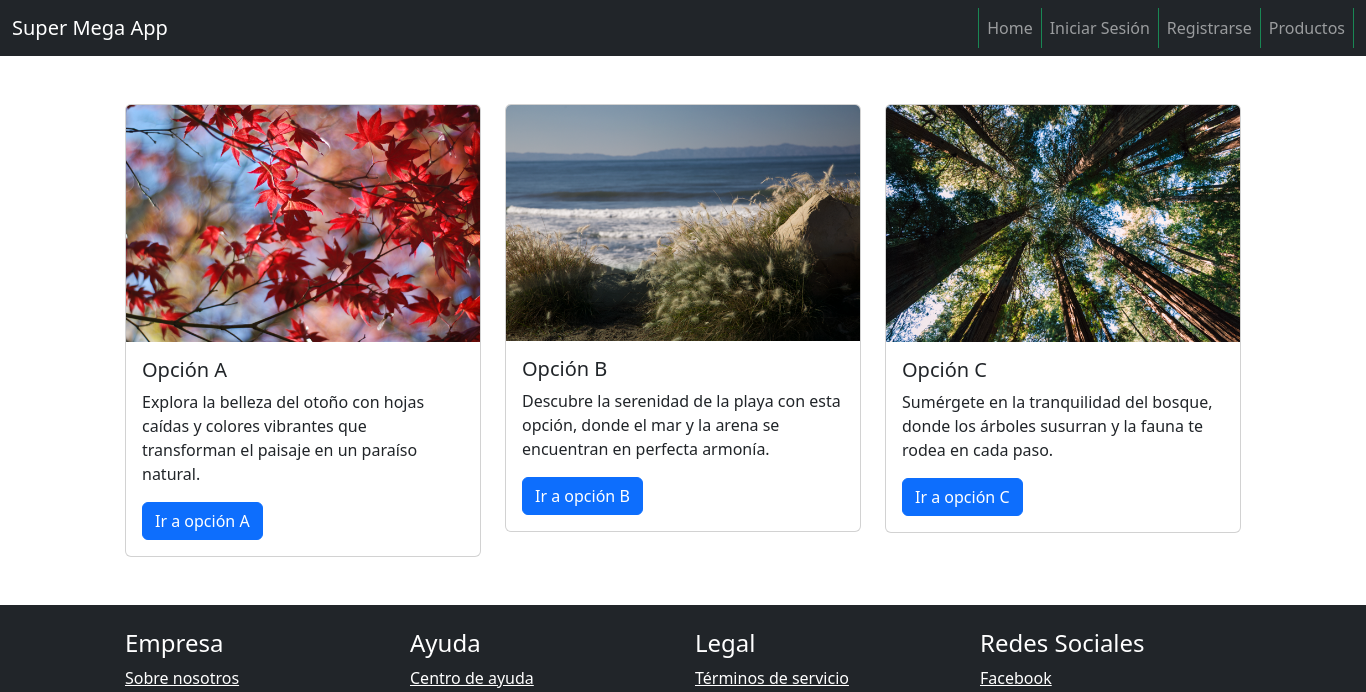
Test: formulario de registro › debe mostrar error si las contraseñas no coinciden
The image size is (1366, 692).
Click the link to "/register" at (1210, 28), box [1159, 8, 1261, 48]
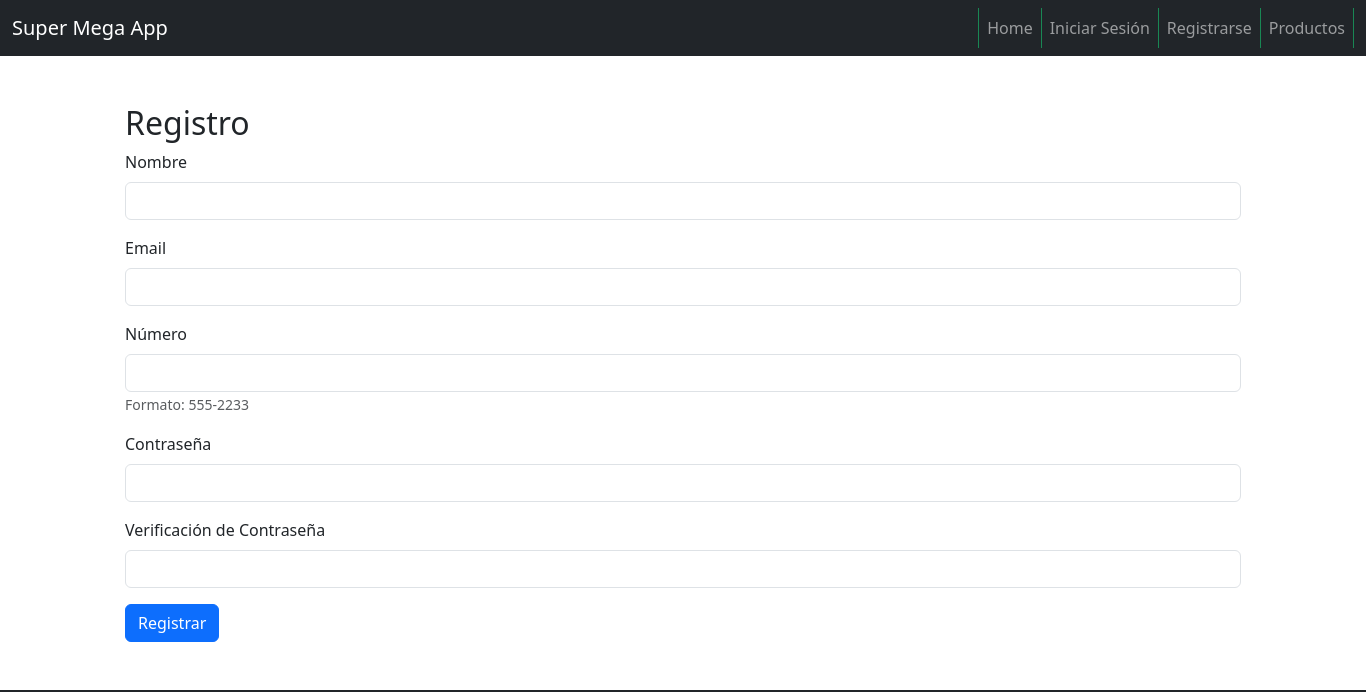
Type "password123" into the password field named "password" at (683, 483), box [125, 464, 1241, 502]
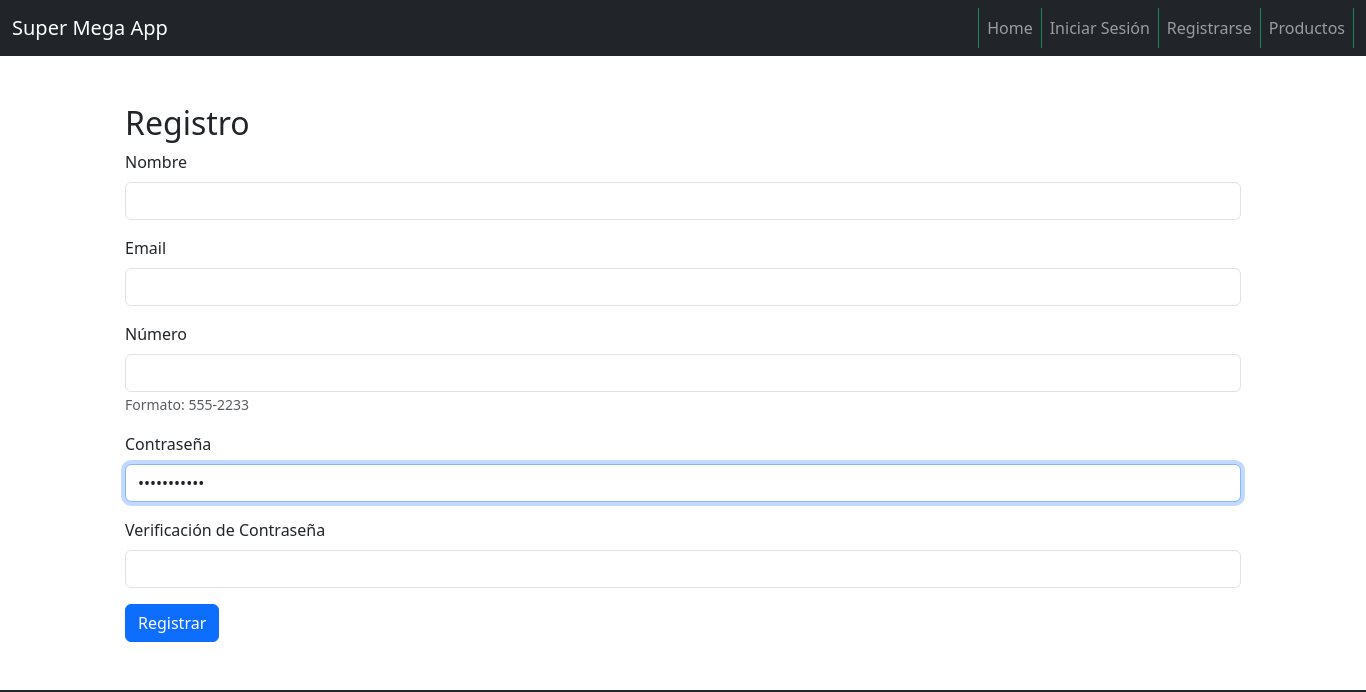
Type "password124" into the password field named "confirmPassword" at (683, 569), box [125, 550, 1241, 588]
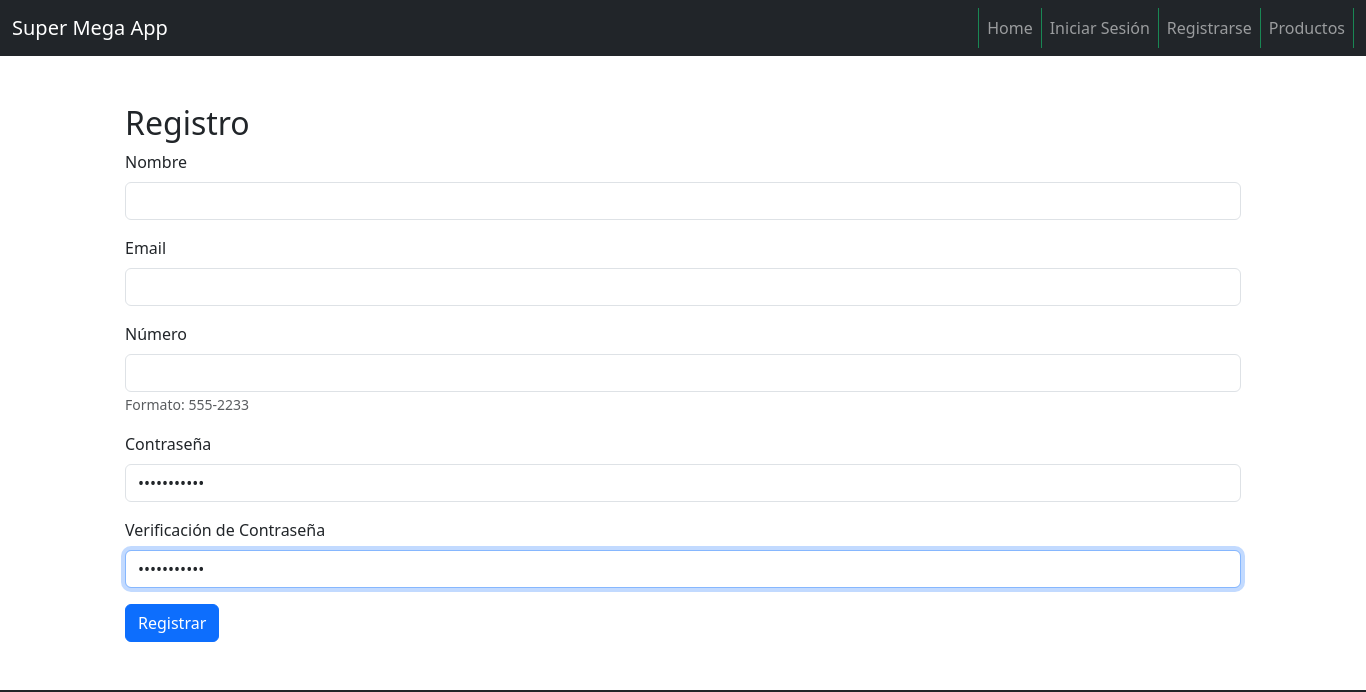
Submit the form, box [125, 150, 1241, 642]
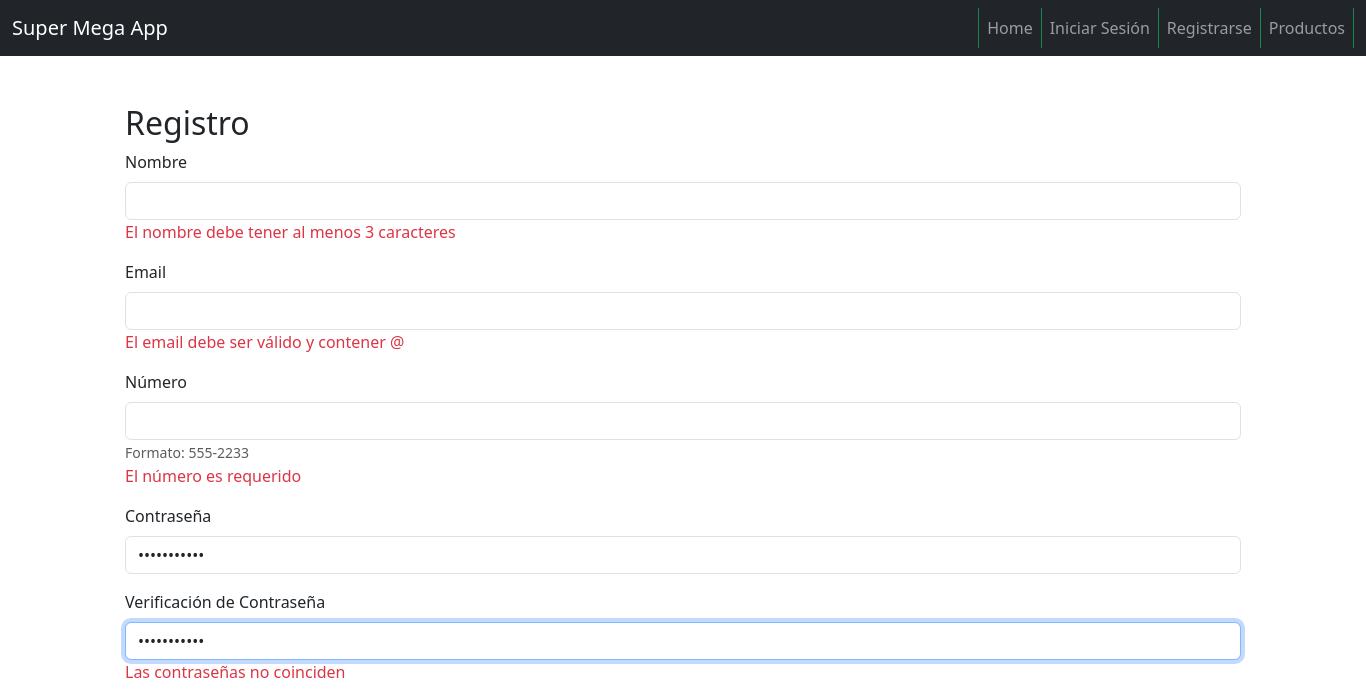
Now the text "Las contraseñas no coinciden" is shown, box [125, 661, 346, 683]
